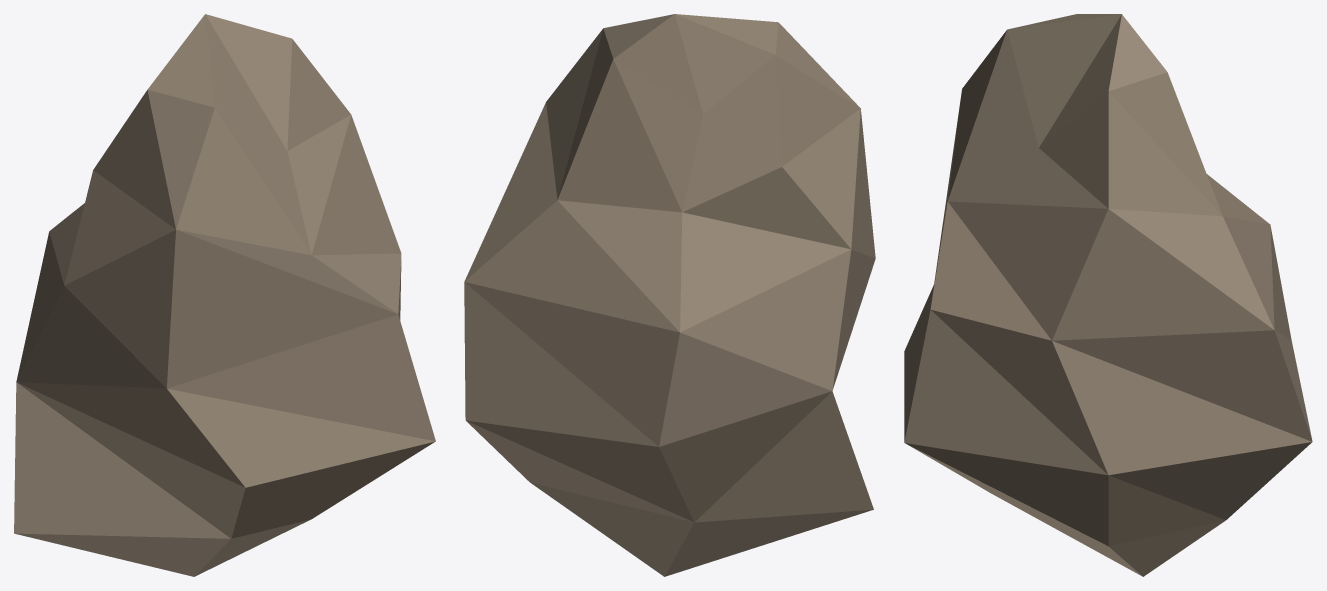
The model's file is fbxRock_2.fbx.
The picture shows the model from 3 angles, left to right: view 1: azimuth 30°, elevation 25°; view 2: azimuth 150°, elevation 25°; view 3: azimuth 270°, elevation 25°; orthographic projection. The views are drawn at different scales.
Parts seen in each view (by area): view 1: pSphere13; view 2: pSphere13; view 3: pSphere13.
Part boxes in pixels (x1,y1,x2,y2): pSphere13: [14, 14, 435, 576]; pSphere13: [464, 14, 875, 576]; pSphere13: [904, 14, 1312, 576].
Size of the model in its own units: 3 by 4.24 by 2.79.
